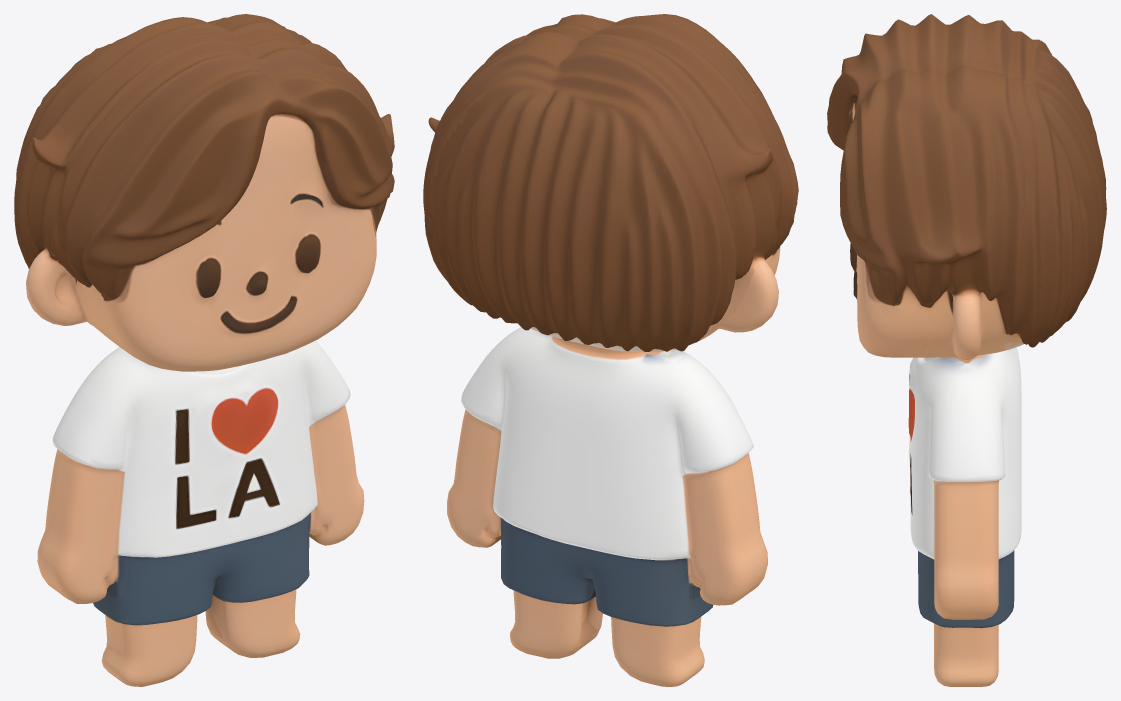
The model's file is male_model2.glb.
3 views of the same model, side by side, from view 1: azimuth 30°, elevation 25°; view 2: azimuth 150°, elevation 25°; view 3: azimuth 270°, elevation 25° (orthographic). The views are drawn at different scales.
Parts seen in each view (by area): view 1: model; view 2: model; view 3: model.
Boxes of the visible parts, x1,y1,x2,y2 form: model: (14,14,394,686); model: (423,14,798,686); model: (827,14,1106,686).
Bounding box in the file's own units: 1.11 × 1.9 × 0.7796.
Materials: 1 (1 with a texture image).
